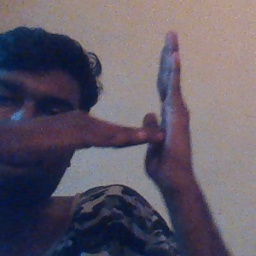Z: (75, 28, 200, 194)
